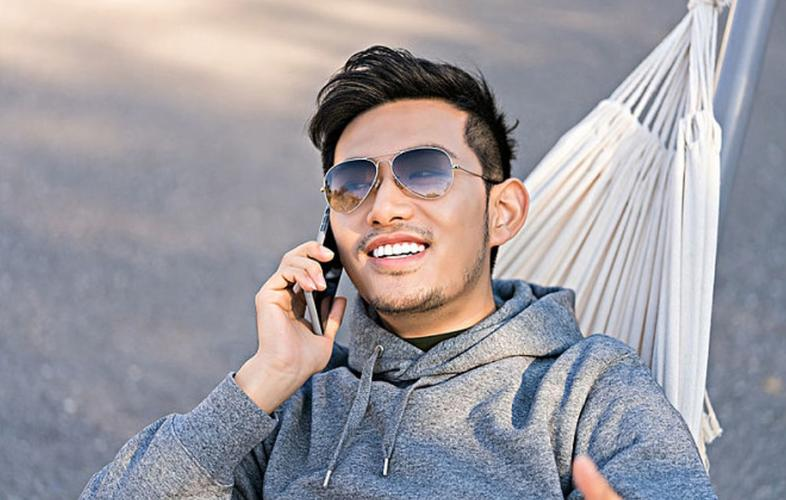calling: (252, 200, 348, 377)
